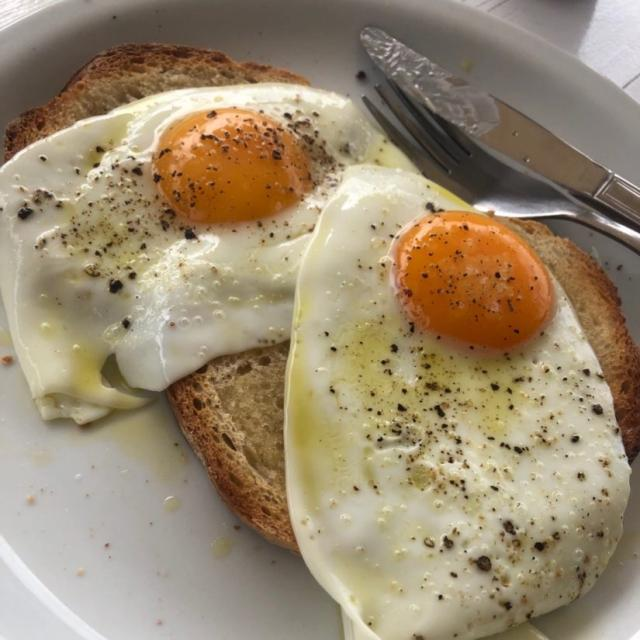Egg: (285, 165, 630, 640), (0, 84, 409, 422)
